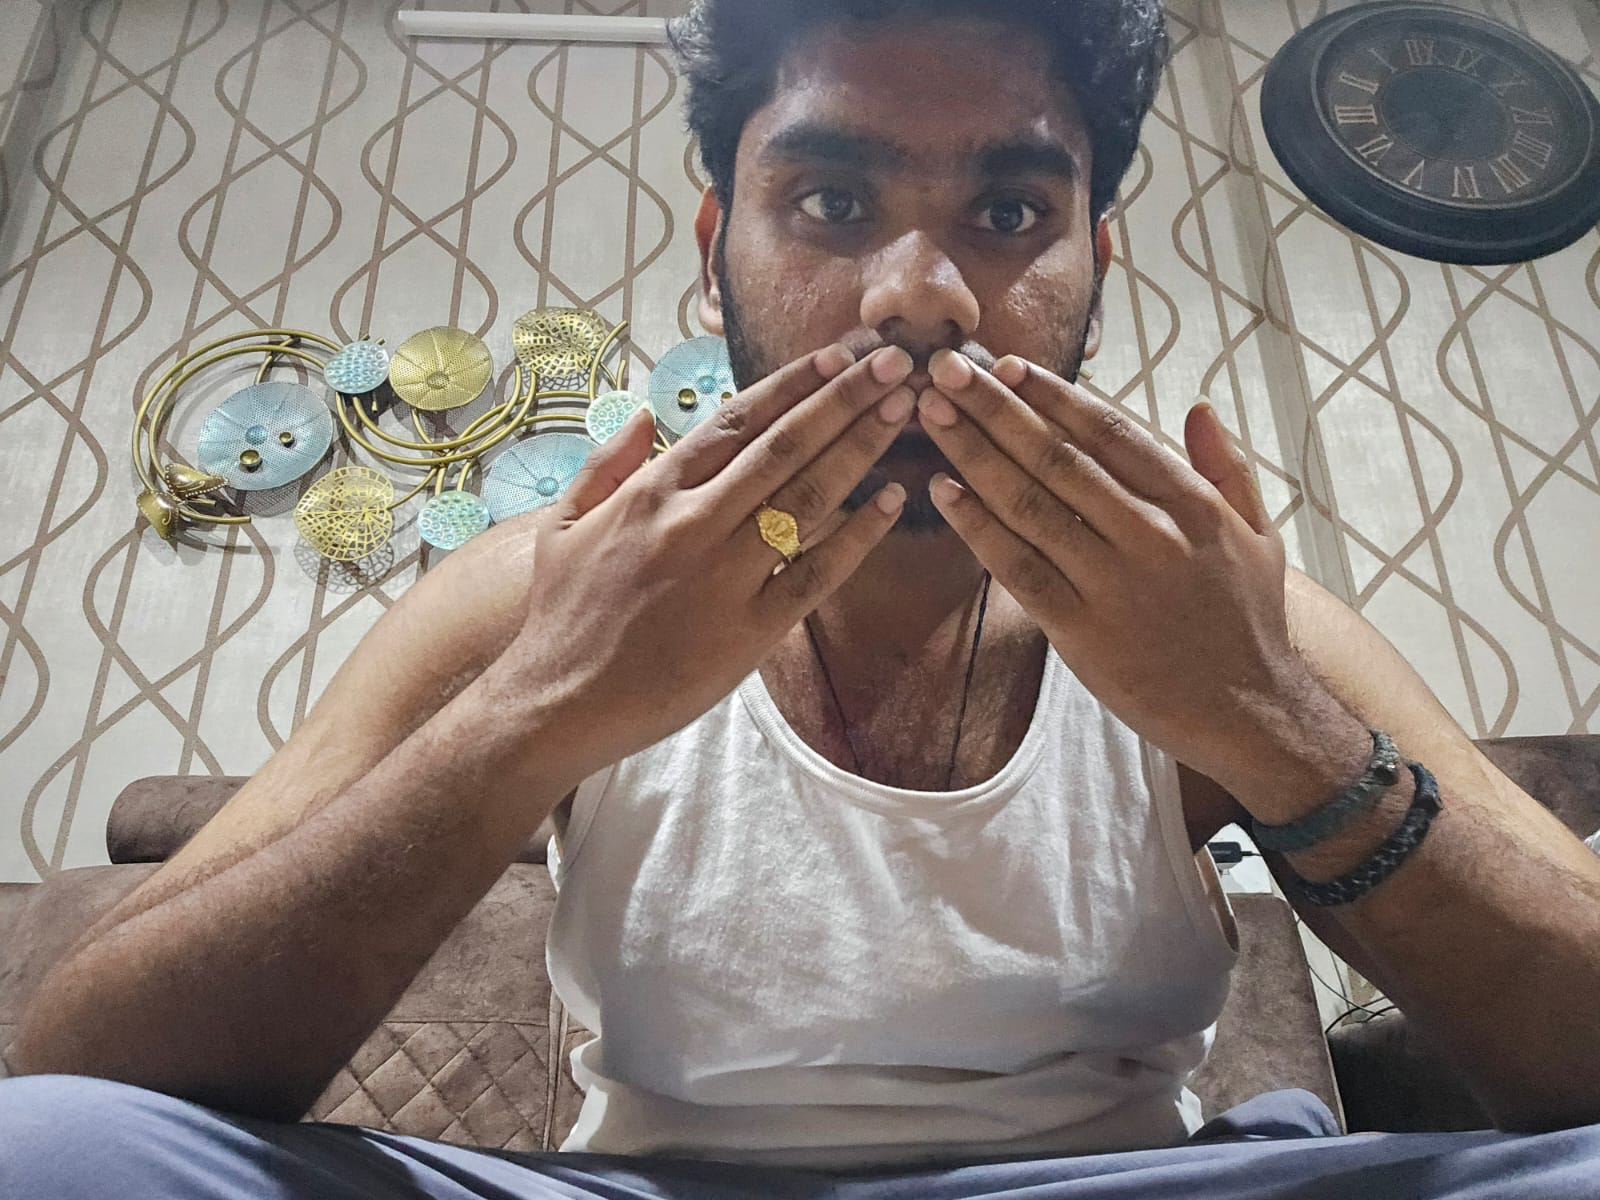thank you: (532, 343, 1290, 747)
